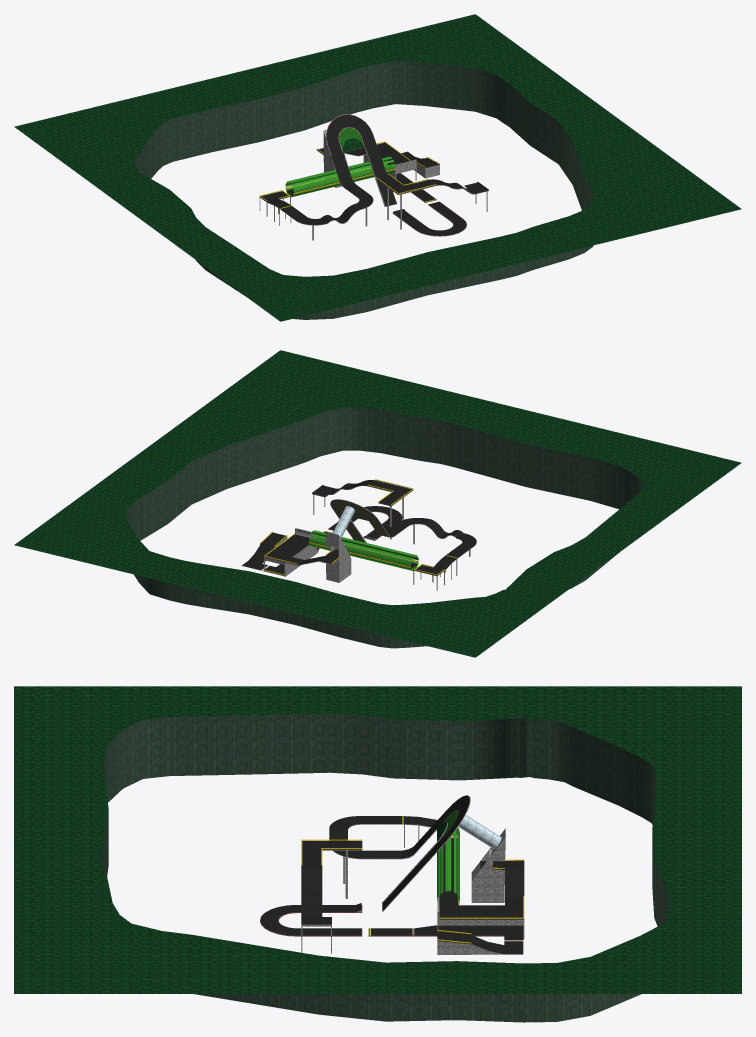
The picture shows the model from 3 angles, top to bottom: view 1: azimuth 30°, elevation 25°; view 2: azimuth 150°, elevation 25°; view 3: azimuth 270°, elevation 25°; orthographic projection. The views are drawn at different scales.
Parts seen in each view (by area): view 1: Seaside_Drome_Main-boundary1, Seaside_Drome_Main-parois, Seaside_Drome_Main-road, Seaside_Drome_Main-mur1, Seaside_Drome_Main-tunnel, Seaside_Drome_Main-barriere; view 2: Seaside_Drome_Main-boundary1, Seaside_Drome_Main-parois, Seaside_Drome_Main-road, Seaside_Drome_Main-mur1, Seaside_Drome_Main-tunnel, Seaside_Drome_Main-dessous, Seaside_Drome_Main-barriere; view 3: Seaside_Drome_Main-boundary1, Seaside_Drome_Main-parois, Seaside_Drome_Main-road, Seaside_Drome_Main-mur1, Seaside_Drome_Main-tunnel, Seaside_Drome_Main-barriere, Seaside_Drome_Main-collonne1, Seaside_Drome_Main-bordure1.
Part boxes in pixels (x1,y1,x2,y2): Seaside_Drome_Main-boundary1: (14, 14, 741, 321); Seaside_Drome_Main-parois: (134, 61, 593, 319); Seaside_Drome_Main-road: (260, 114, 488, 235); Seaside_Drome_Main-mur1: (259, 129, 488, 240); Seaside_Drome_Main-tunnel: (285, 156, 395, 197); Seaside_Drome_Main-barriere: (260, 141, 439, 201); Seaside_Drome_Main-boundary1: (14, 350, 741, 657); Seaside_Drome_Main-parois: (125, 407, 644, 648); Seaside_Drome_Main-road: (242, 480, 476, 575); Seaside_Drome_Main-mur1: (242, 485, 476, 590); Seaside_Drome_Main-tunnel: (309, 530, 418, 570); Seaside_Drome_Main-dessous: (261, 489, 447, 570); Seaside_Drome_Main-barriere: (260, 479, 444, 575); Seaside_Drome_Main-boundary1: (14, 686, 741, 993); Seaside_Drome_Main-parois: (102, 713, 669, 1022); Seaside_Drome_Main-road: (260, 795, 524, 954); Seaside_Drome_Main-mur1: (261, 797, 524, 954); Seaside_Drome_Main-tunnel: (437, 828, 459, 905); Seaside_Drome_Main-barriere: (301, 827, 524, 943); Seaside_Drome_Main-collonne1: (459, 815, 501, 848); Seaside_Drome_Main-bordure1: (260, 905, 523, 941).
Bounding box in the file's own units: 147472 × 22028 × 147472.
13 materials, 13 textured.
